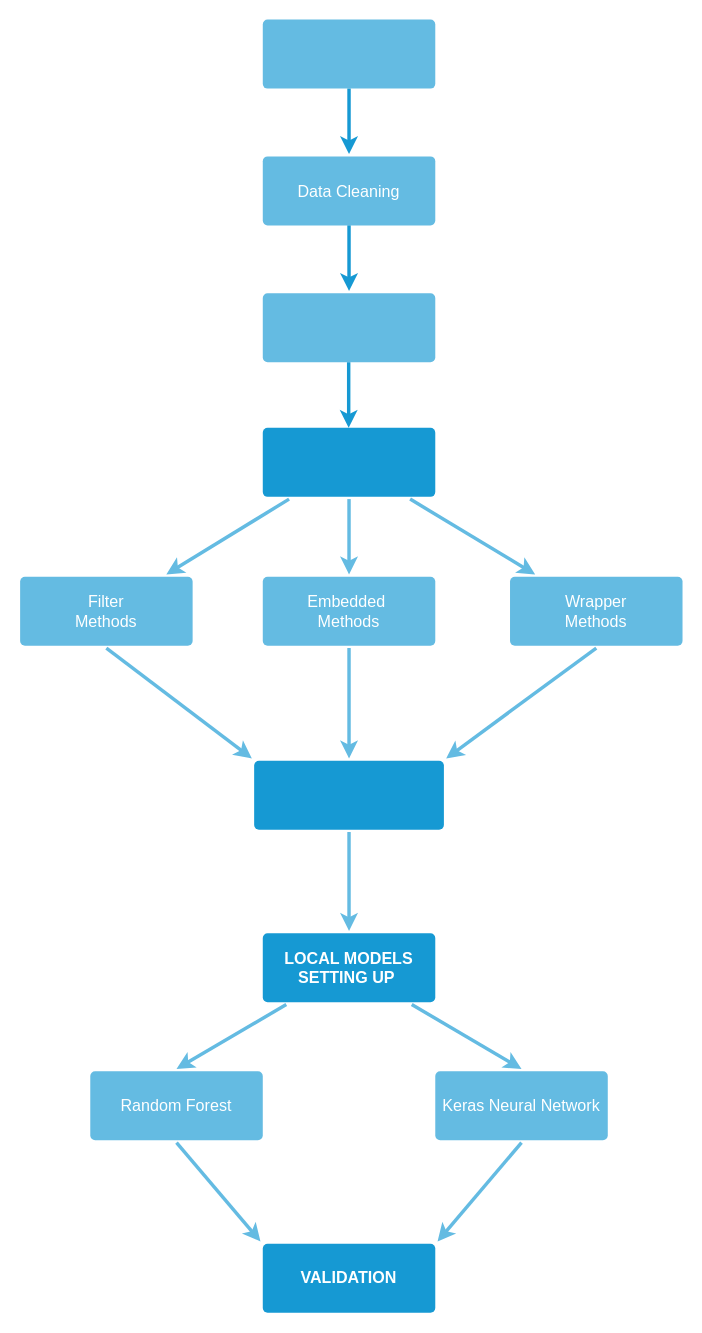
Image size: 702x1333. Some labels were removed from this diagram. Each missing label, with the centre of its shape:
Data Collection: the point at 348,53
Data Transformation: the point at 348,327
FEATURE SELECTION: the point at 348,461
Features selected with Voting System (Borda Count): the point at 348,794
